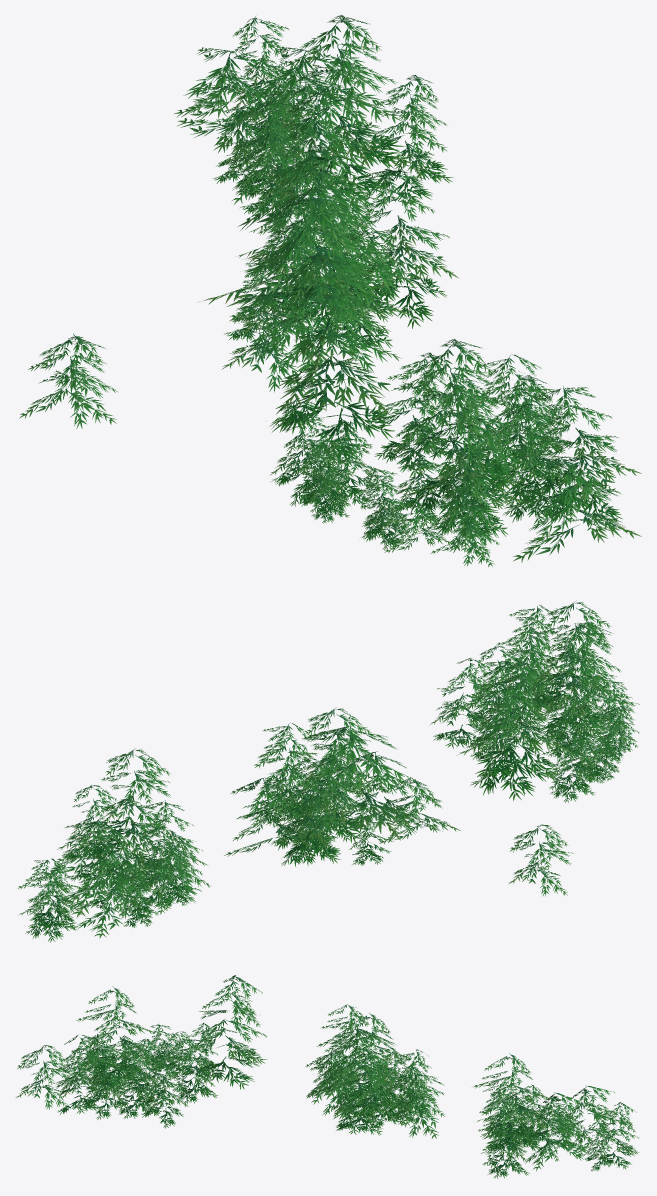
The model's file is Area_08_6.fbx.
3 renders of one model, top to bottom at view 1: azimuth 30°, elevation 25°; view 2: azimuth 150°, elevation 25°; view 3: azimuth 270°, elevation 25°, orthographic. The views are drawn at different scales.
Visible parts, largest first — view 1: Area_08_6; view 2: Area_08_6; view 3: Area_08_6.
Boxes of the visible parts, x1,y1,x2,y2 form: Area_08_6: (19,15,641,566); Area_08_6: (17,600,639,942); Area_08_6: (16,975,638,1178).
Bounding box in the file's own units: 5028 × 1771 × 8756.
